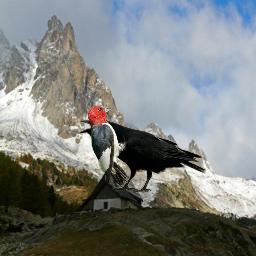Crow: (79, 119, 206, 193)
Woodpecker: (88, 105, 129, 186)
